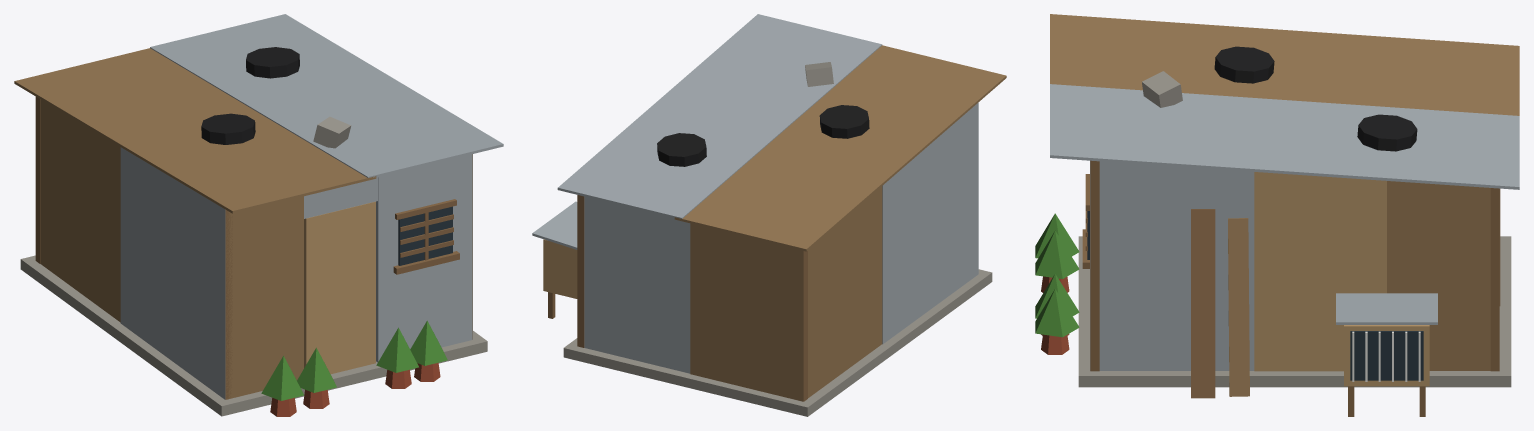
The model's file is BAY_I_TinShack_G.glb.
The picture shows the model from 3 angles, left to right: view 1: azimuth 30°, elevation 25°; view 2: azimuth 150°, elevation 25°; view 3: azimuth 270°, elevation 25°; orthographic projection. The views are drawn at different scales.
Parts seen in each view (by area): view 1: BAY_I_TinShack_G; view 2: BAY_I_TinShack_G; view 3: BAY_I_TinShack_G.
Boxes of the visible parts, left/top/right/bottom form: BAY_I_TinShack_G: left=14, top=14, right=503, bottom=416; BAY_I_TinShack_G: left=532, top=14, right=1006, bottom=416; BAY_I_TinShack_G: left=1035, top=14, right=1519, bottom=416.
Bounding box in the file's own units: 4.1 × 2.68 × 4.74.
Materials: 1 (1 with a texture image).
